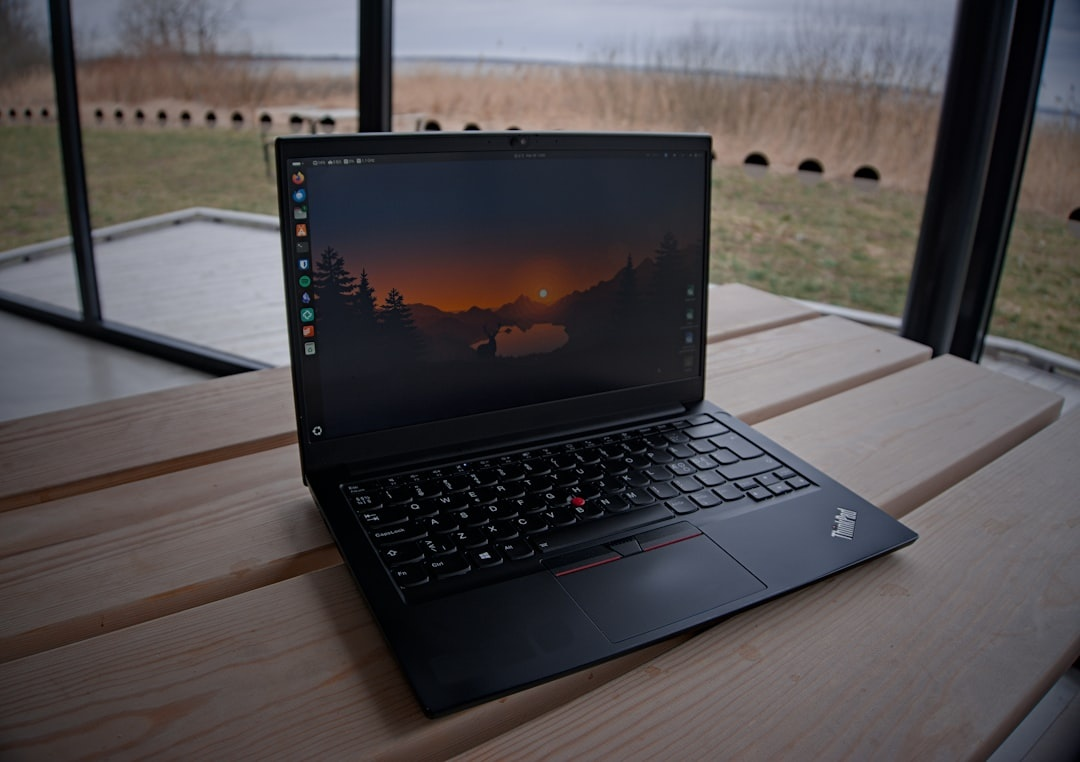laptop: (235, 109, 943, 730)
